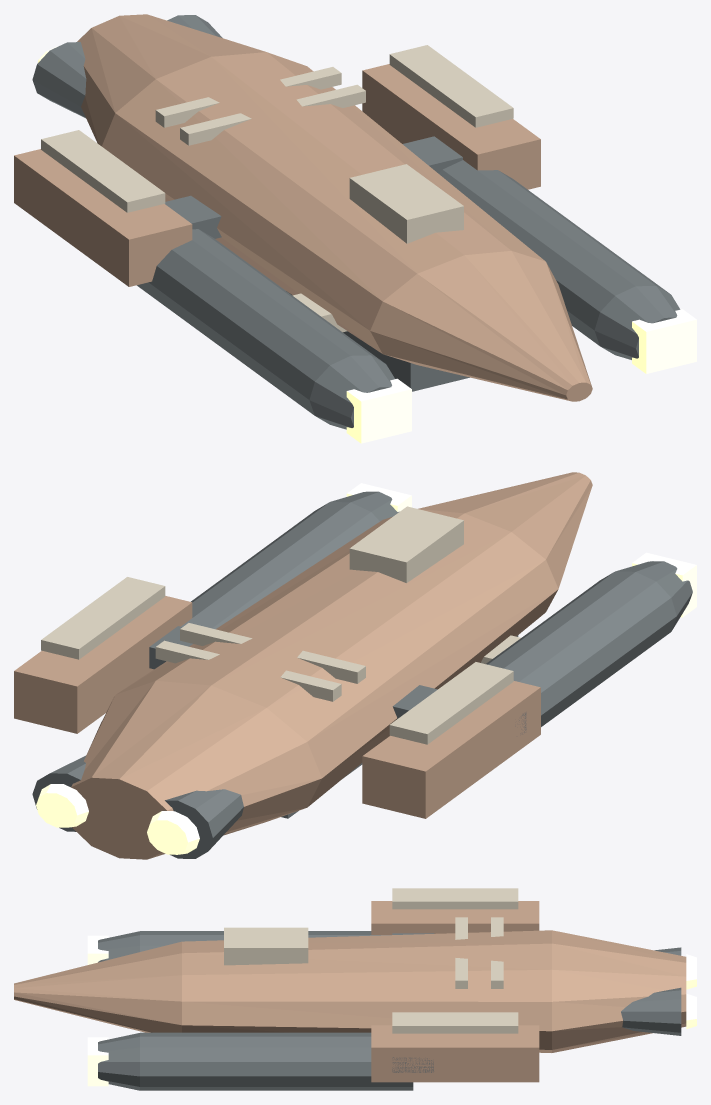
3 views of the same model, one above another, from view 1: azimuth 30°, elevation 25°; view 2: azimuth 150°, elevation 25°; view 3: azimuth 270°, elevation 25° (orthographic). The views are drawn at different scales.
Bounding box in the file's own units: 3.04 × 1.02 × 5.98.
